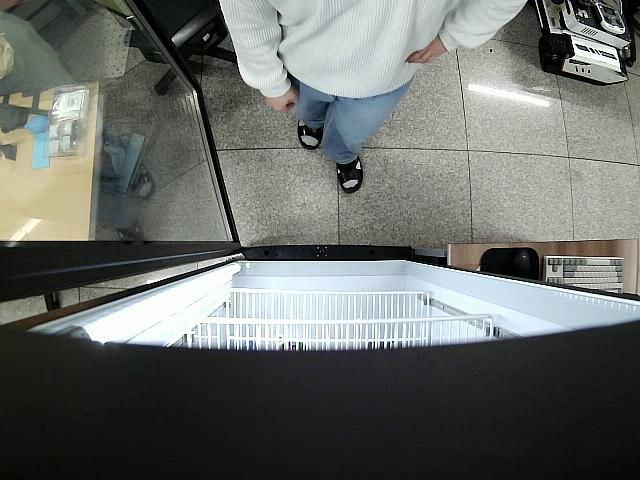00_hand: (407, 35, 449, 67), (261, 87, 301, 115)
